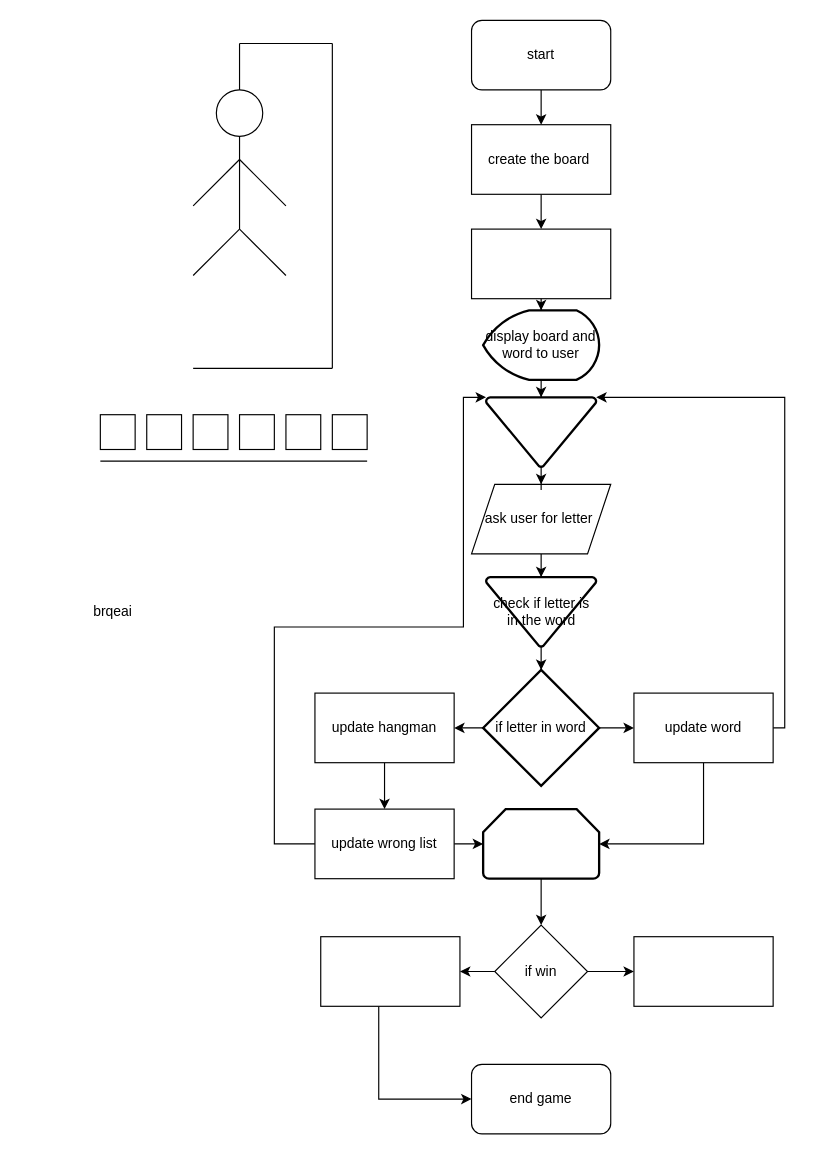
Image size: 814x1154. Some labels were removed from this diagram. The centre of each missing label's shape, as x and y in pixels:
congrats player: [703,971]
end while loop: [540,843]
pick the word: [540,263]
tell player what word: [390,971]
while playing: [540,431]
